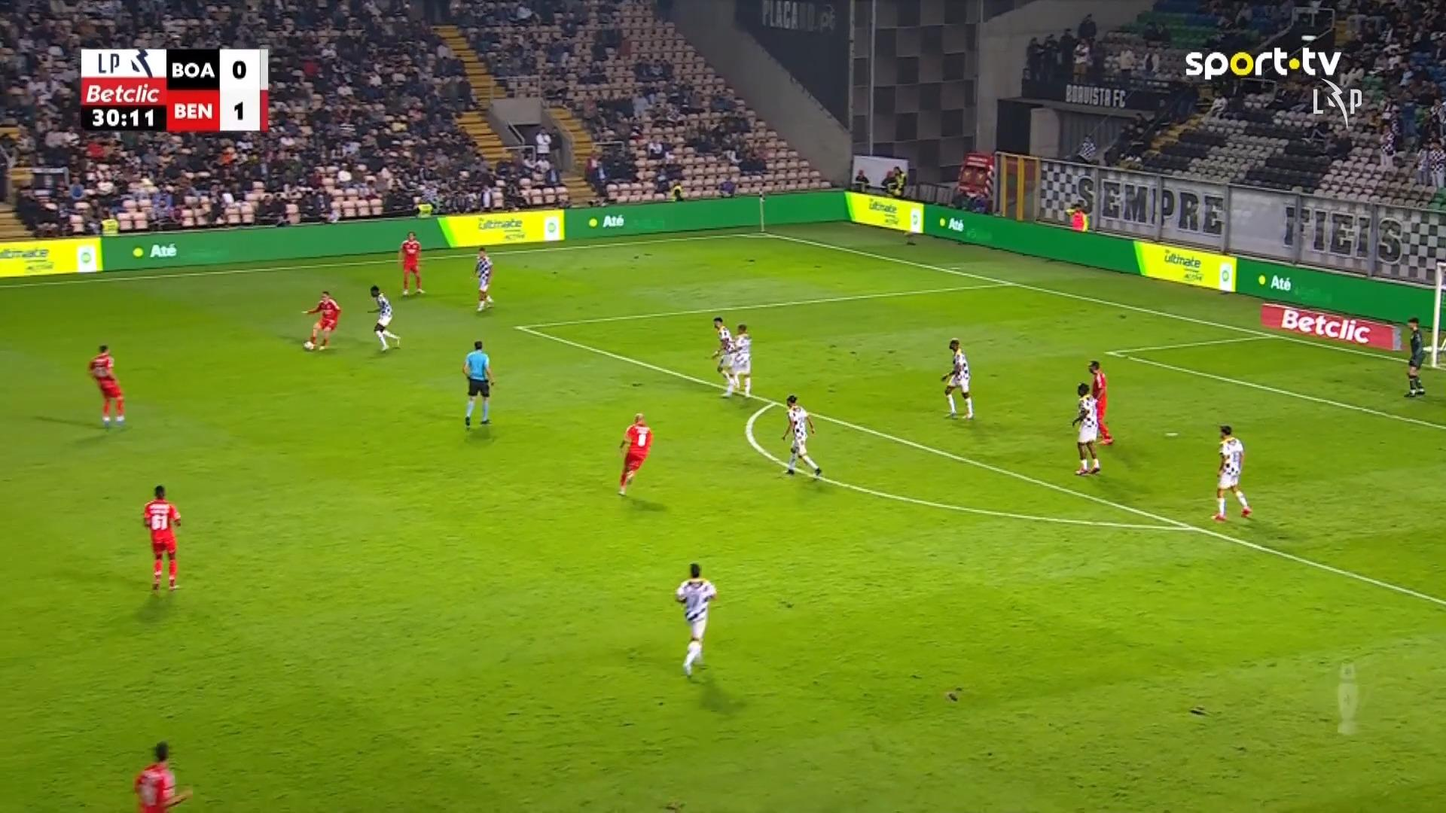ball: (303, 340, 315, 350)
goalkeeper: (1403, 315, 1426, 397)
player: (674, 562, 716, 677), (142, 484, 182, 591), (133, 740, 192, 811), (1210, 424, 1252, 521), (779, 394, 822, 479), (87, 343, 126, 427), (617, 412, 653, 496), (1070, 382, 1101, 475), (940, 338, 974, 419), (301, 290, 340, 350), (711, 316, 739, 397), (366, 285, 400, 351), (1087, 359, 1113, 445), (725, 323, 752, 397), (398, 230, 424, 297), (473, 246, 494, 312)
referee: (462, 340, 494, 429)
